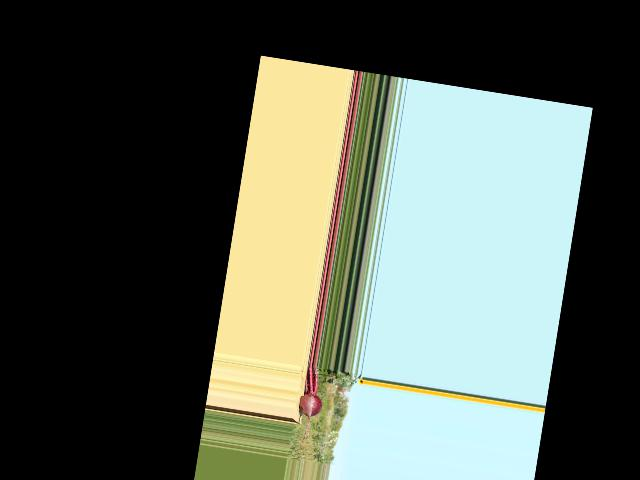beet: (291, 364, 327, 459)
